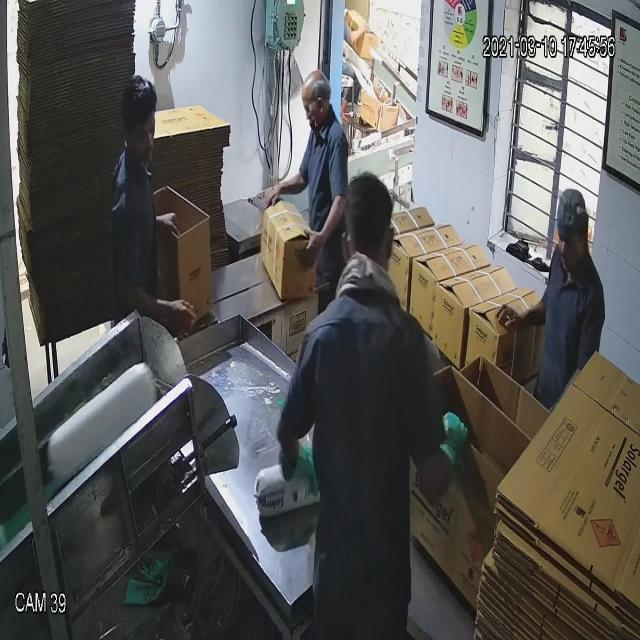No_Gloves: (55, 58, 520, 316)
